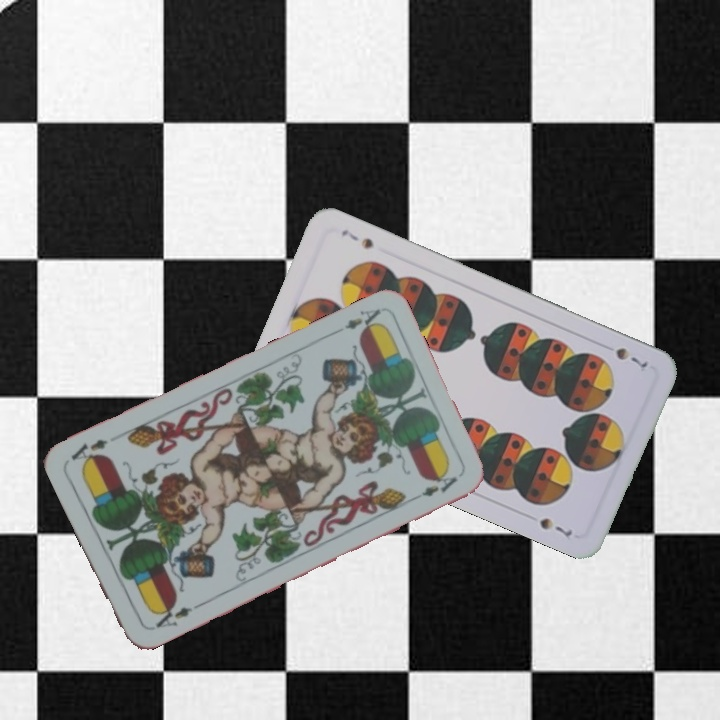EA: (328, 305, 384, 338), (148, 600, 202, 631)
S7: (612, 343, 654, 375)
